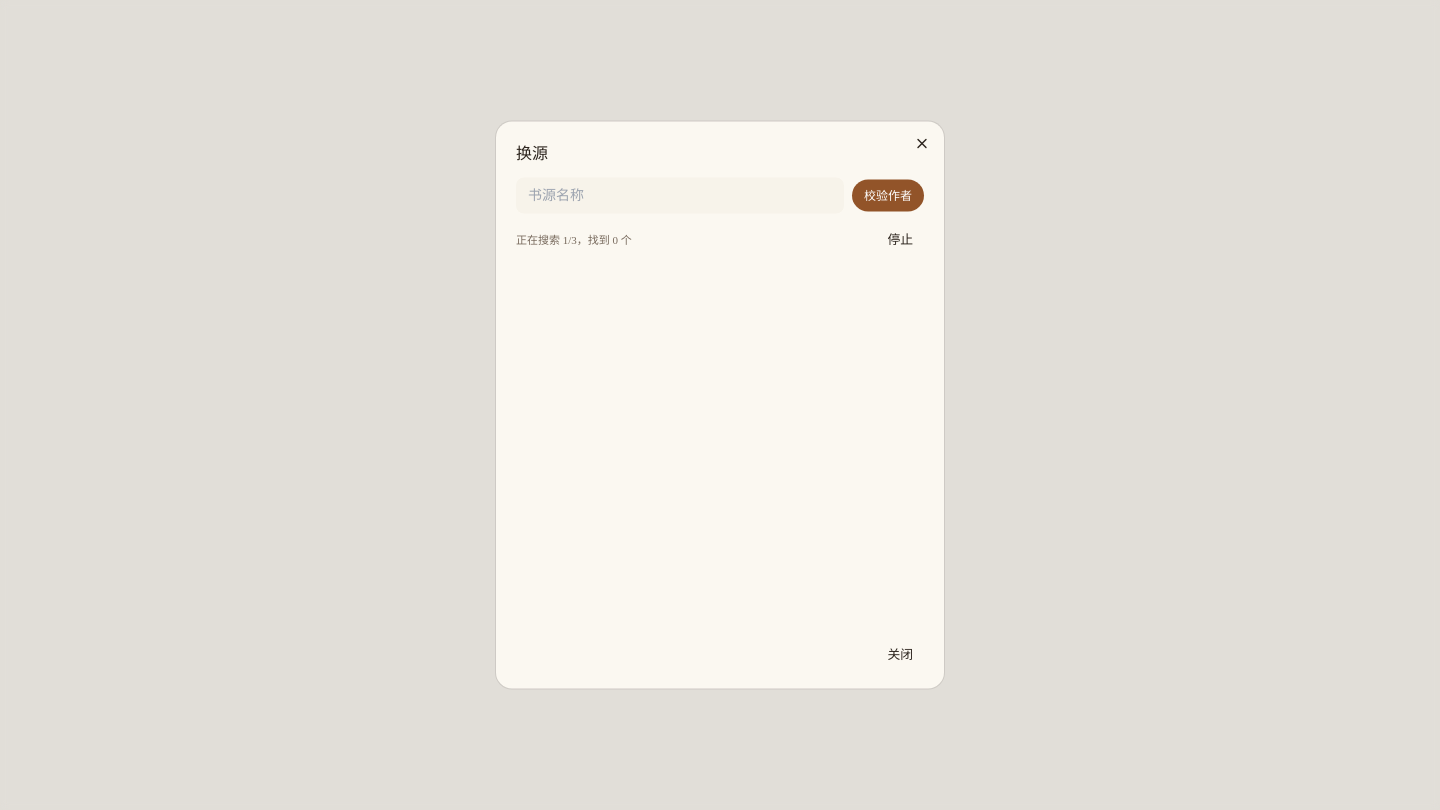
Test: 换源 while searching › stops, continues, and leaves the filter unfocused
Click the button "停止" at point(900, 240), box [876, 226, 924, 254]
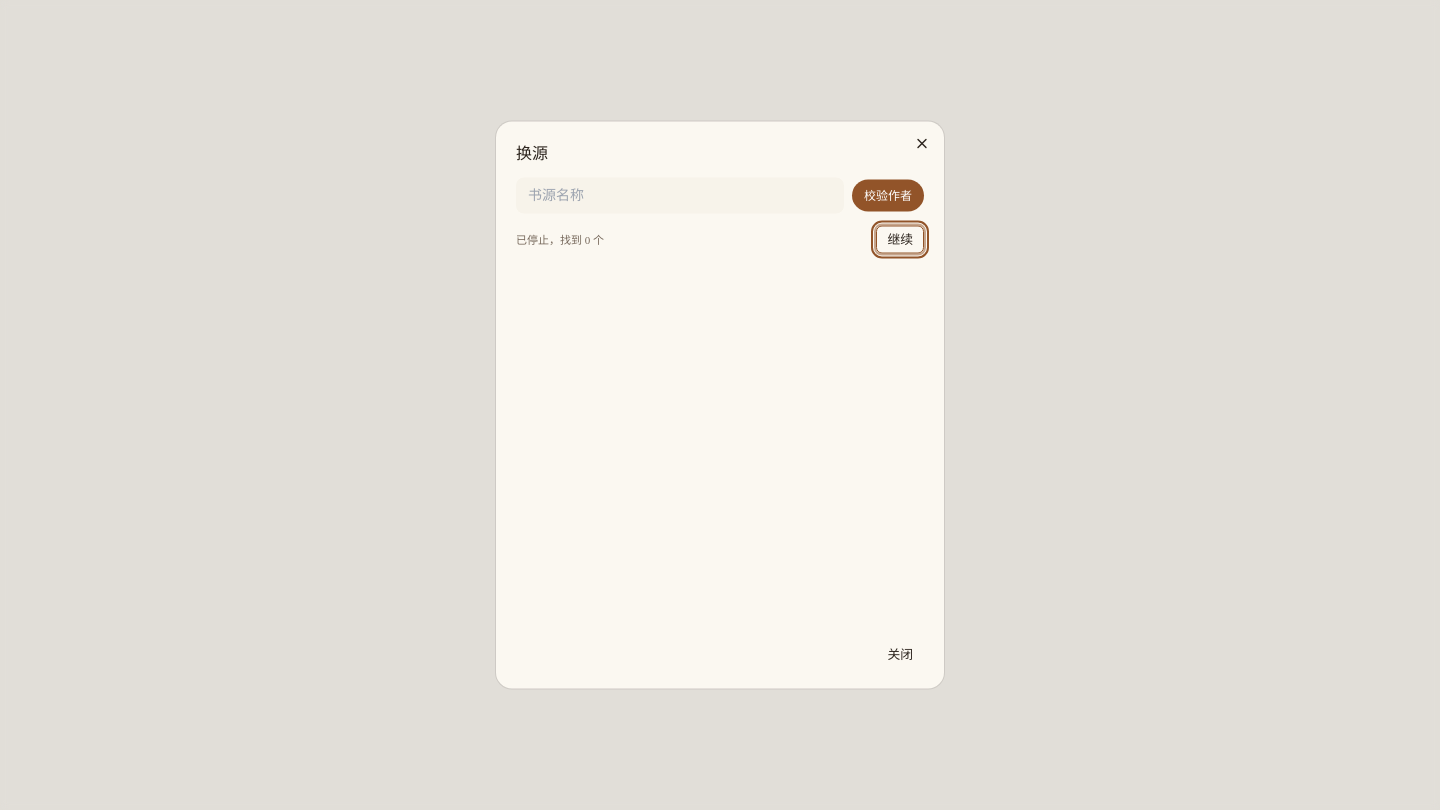
Click the button "继续" at point(900, 240), box [876, 226, 924, 254]
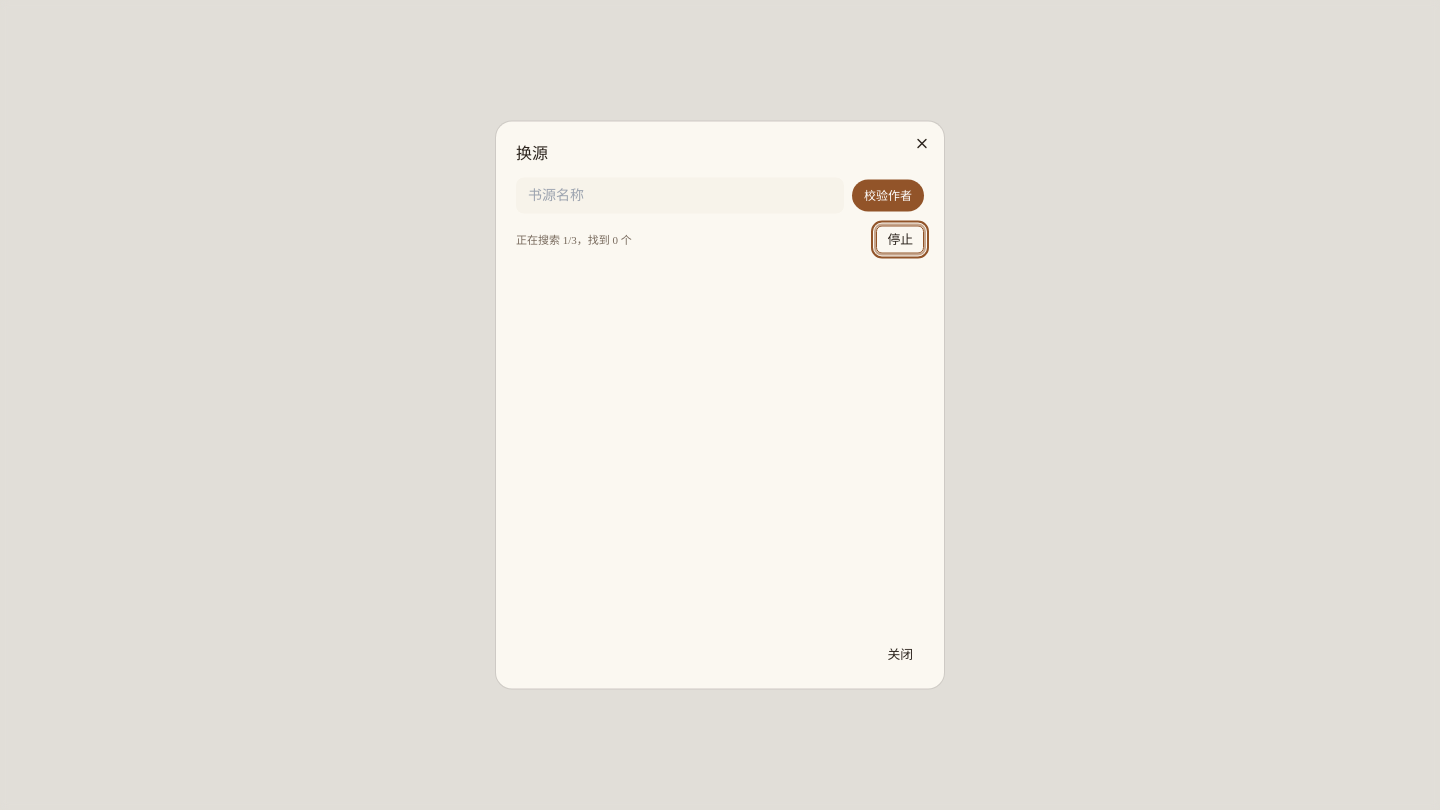
Now the button "停止" is shown, box [876, 226, 924, 254]
